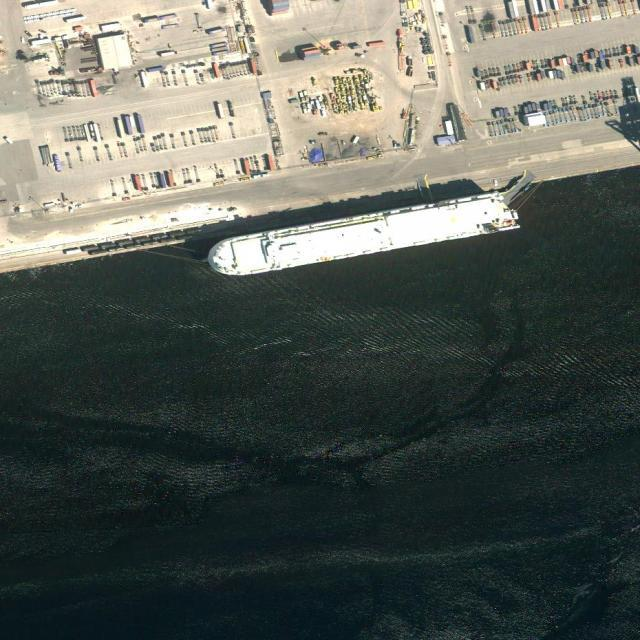RoRo: (199, 184, 528, 284)
